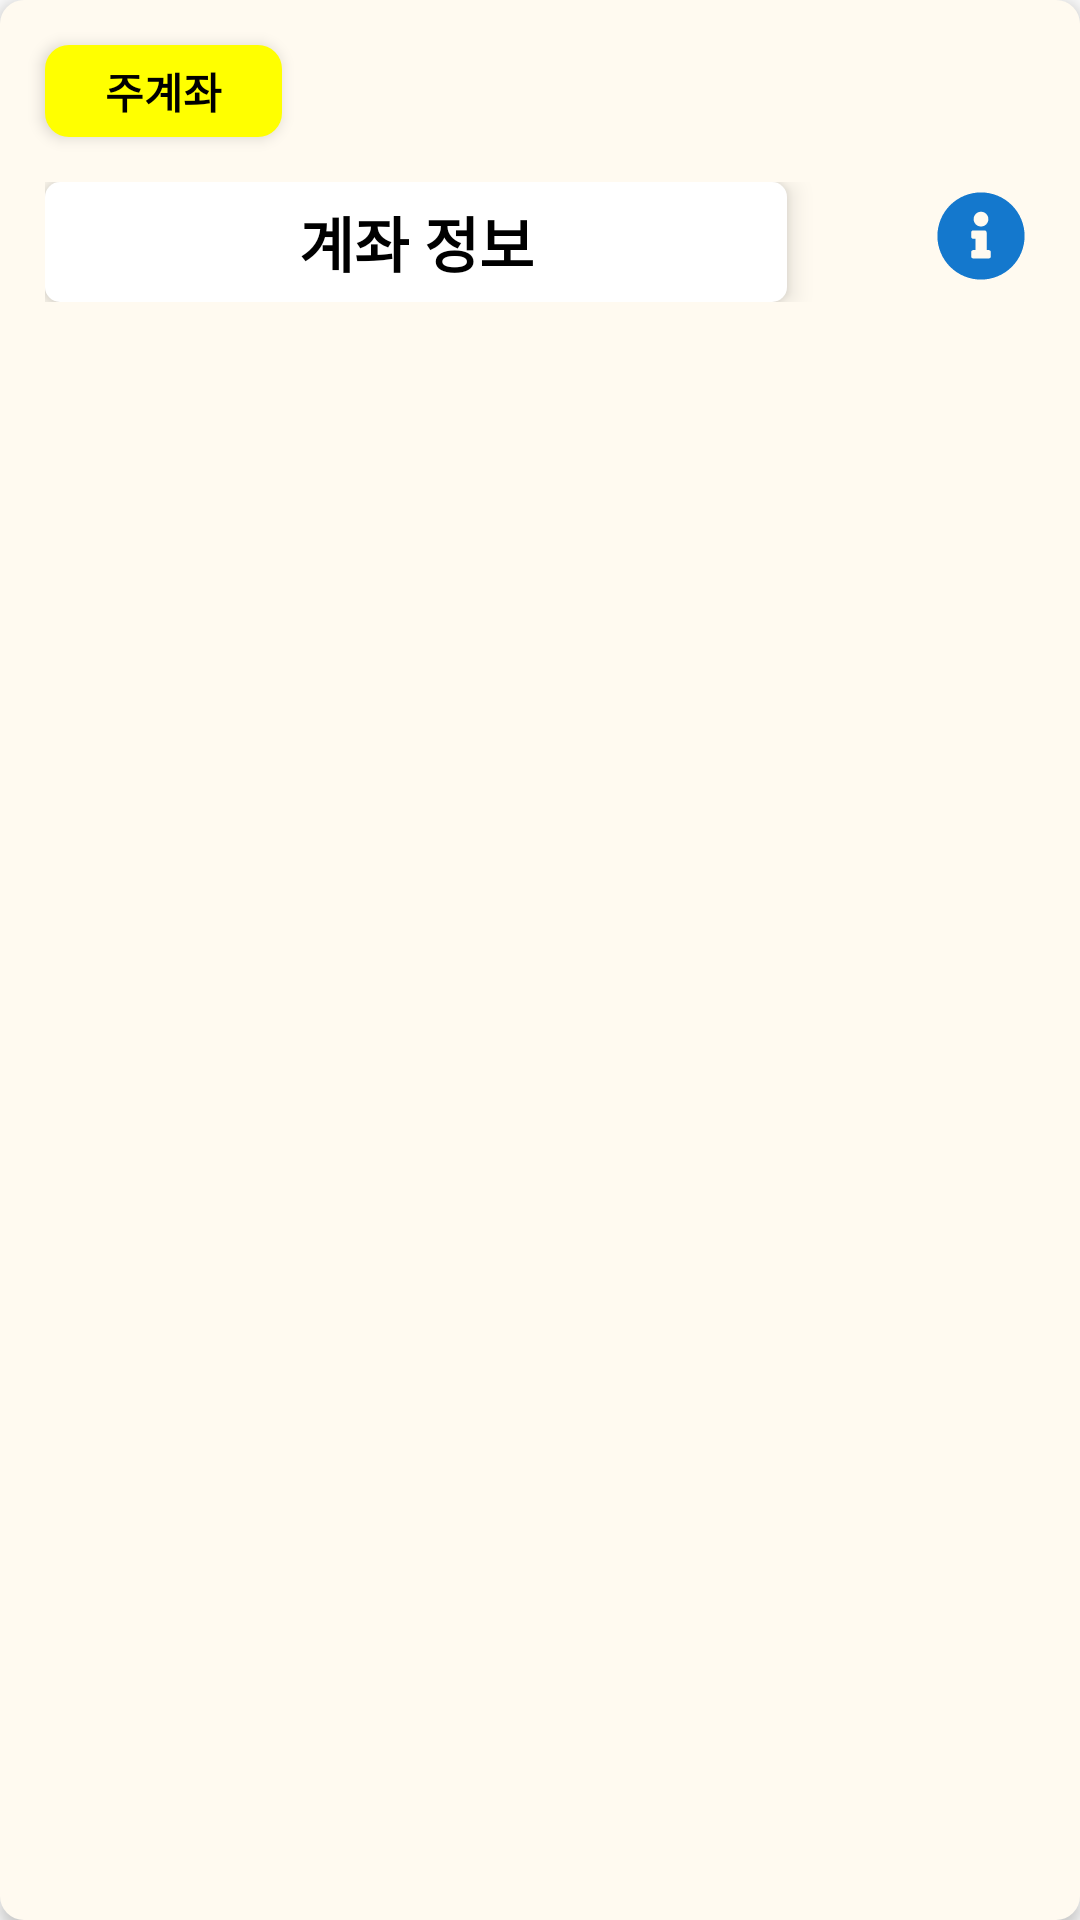

Locate icon controls on the screen. Image size 1080x1920, boxes as (x1, y1, x2, y2).
info circle: (937, 192, 1025, 280)
